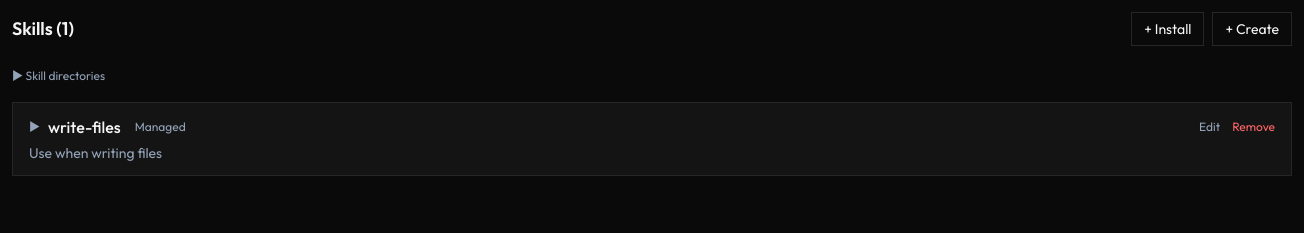
SkillsTab lessons › falls back to the raw body for a skill that is not a lesson book
What coordinates should you click on to do the following:
click the text "write-files"
I would click on:
 (84, 127)
Its box is [48,115,121,139].
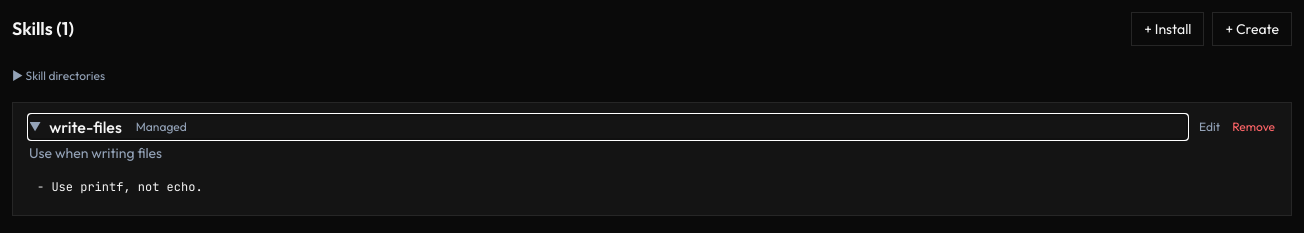
Result: the text "- Use printf, not echo." is shown at [29,171,1275,203]
